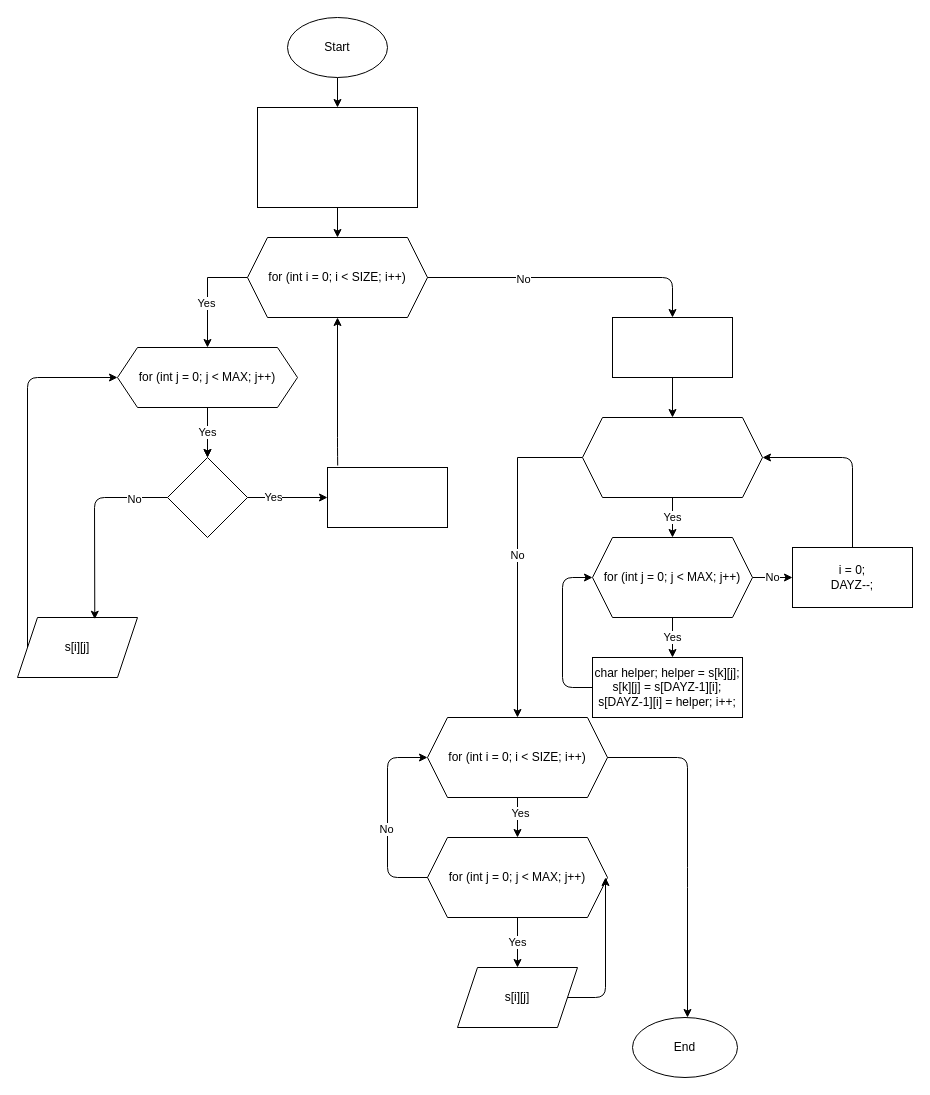
This 930x1095 diagram has some shape labels left out. Here are the shapes that lost their labels. From the top down, the centre of each, then its label:
the point at 337,157: const int SIZE = 10; const int MAX = 10; char s[SIZE][MAX] = {};
the point at 672,347: int i = 0; int DAYZ = SIZE;
the point at 672,457: for (int k = 0; k < DAYZ; k++)
the point at 207,497: s[i][j] == '\0'
the point at 387,497: break;
